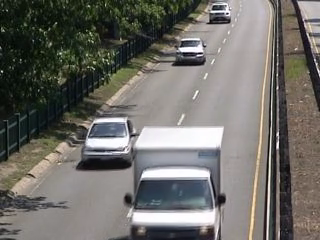car: (80, 115, 141, 169), (173, 37, 209, 67), (209, 2, 233, 25)
truck: (124, 125, 229, 240)
